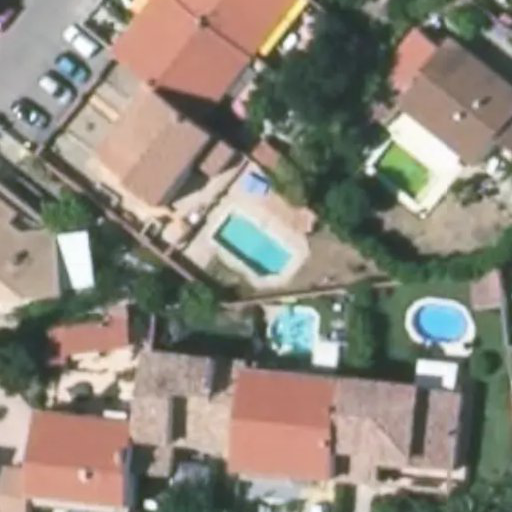pool: (203, 241, 306, 256)
